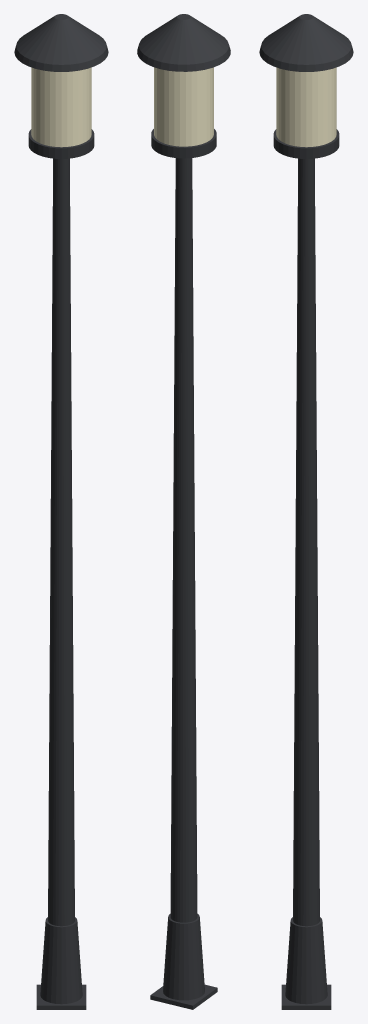
The picture shows the model from 3 angles, left to right: view 1: azimuth 90°, elevation 25°; view 2: azimuth 150°, elevation 25°; view 3: azimuth 270°, elevation 25°; orthographic projection.
Parts seen in each view (by area): view 1: armLength=0;coverageRadius=;fixtureCode=;headHeight=0.3;head (×2); view 2: armLength=0;coverageRadius=;fixtureCode=;headHeight=0.3;head (×2); view 3: armLength=0;coverageRadius=;fixtureCode=;headHeight=0.3;head (×2).
Boxes of the visible parts, box(x1,y1,x2,y2) form: armLength=0;coverageRadius=;fixtureCode=;headHeight=0.3;head (×2): box(14, 14, 108, 1009); armLength=0;coverageRadius=;fixtureCode=;headHeight=0.3;head (×2): box(137, 14, 230, 1009); armLength=0;coverageRadius=;fixtureCode=;headHeight=0.3;head (×2): box(259, 14, 353, 1009).
Bounding box in the file's own units: 0.4 × 0.4 × 4.6.
